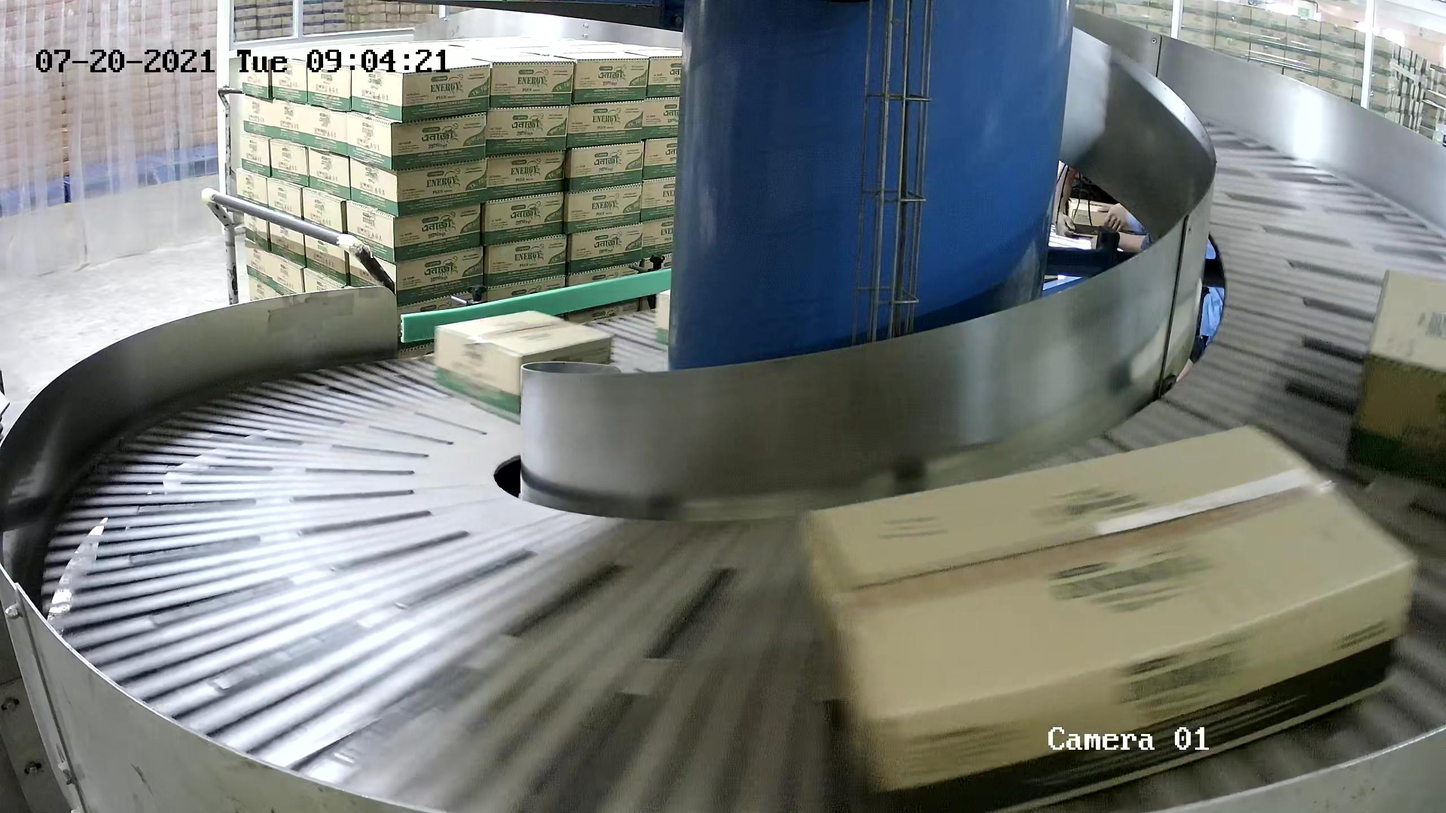Box: (795, 419, 1420, 813), (1347, 267, 1446, 473), (433, 309, 615, 414), (654, 289, 671, 345)
